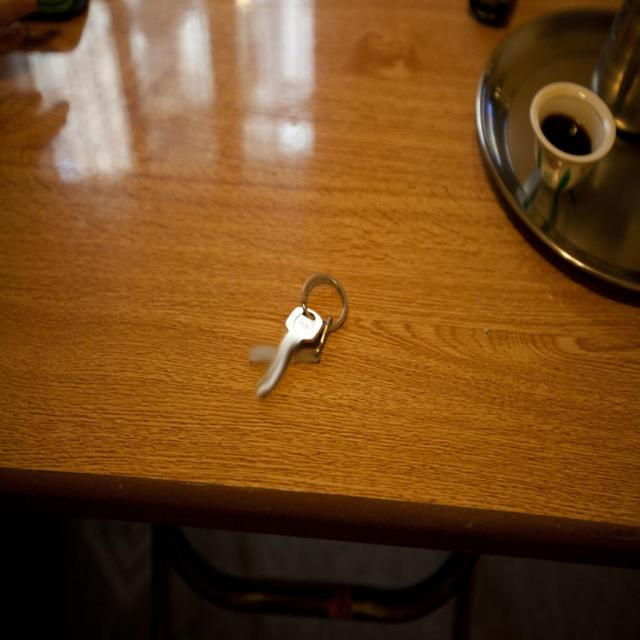Frontdoor keys: (250, 299, 334, 414)
